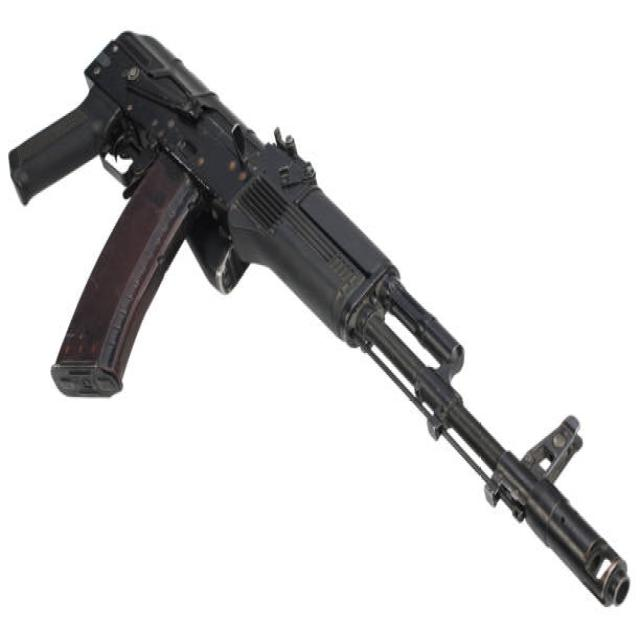rifle: (6, 15, 636, 616)
